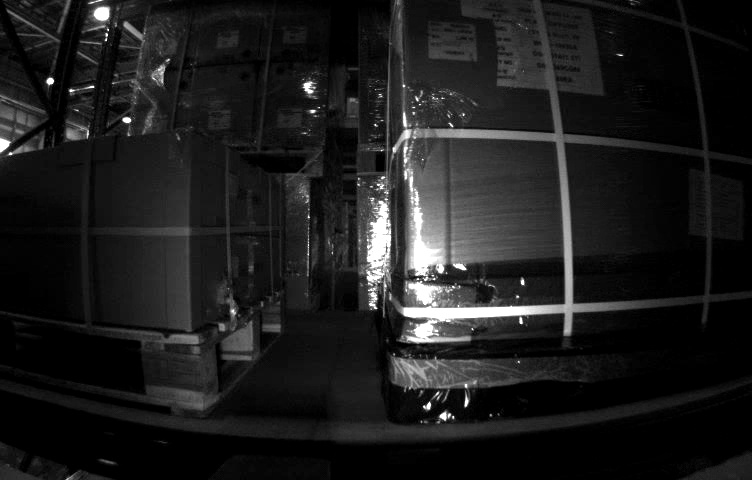True Barcode: (430, 22, 477, 61)
